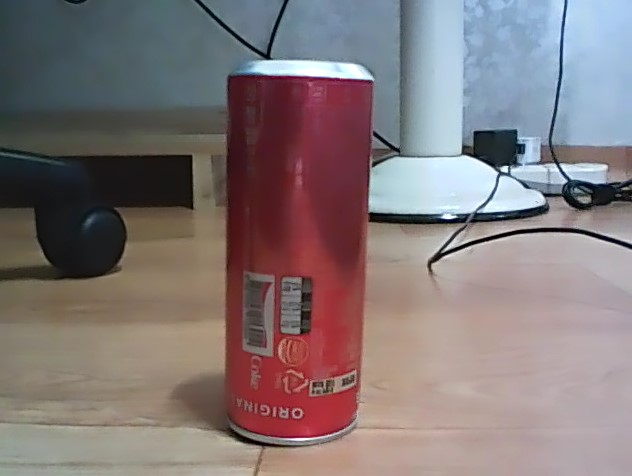Can: (219, 54, 378, 452)
